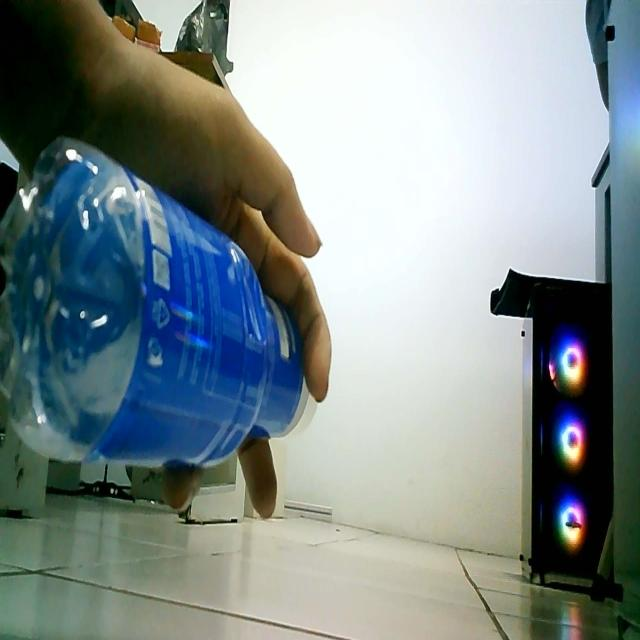botol: (1, 97, 352, 539)
